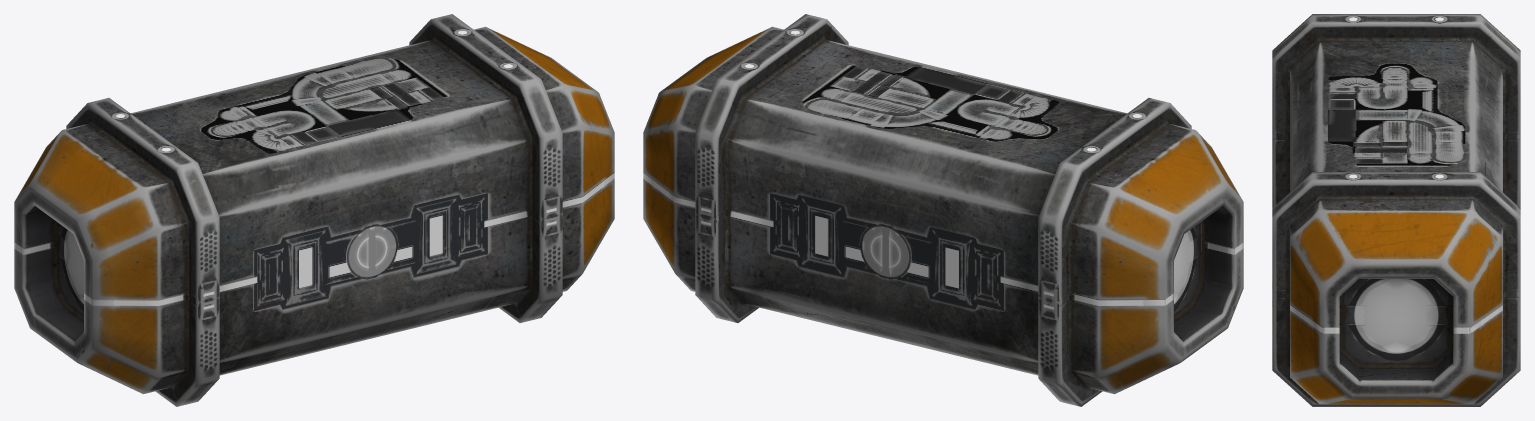
File: Sci-Fi Crate.fbx
3 renders of one model, left to right at view 1: azimuth 30°, elevation 25°; view 2: azimuth 150°, elevation 25°; view 3: azimuth 270°, elevation 25°, orthographic. The views are drawn at different scales.
Parts seen in each view (by area): view 1: Sci_Fi_Crate_LP2; view 2: Sci_Fi_Crate_LP2; view 3: Sci_Fi_Crate_LP2.
Boxes of the visible parts, x1,y1,x2,y2 form: Sci_Fi_Crate_LP2: (14, 14, 614, 406); Sci_Fi_Crate_LP2: (643, 14, 1243, 406); Sci_Fi_Crate_LP2: (1272, 14, 1520, 406).
Size of the model in its own units: 320 by 140 by 140.
